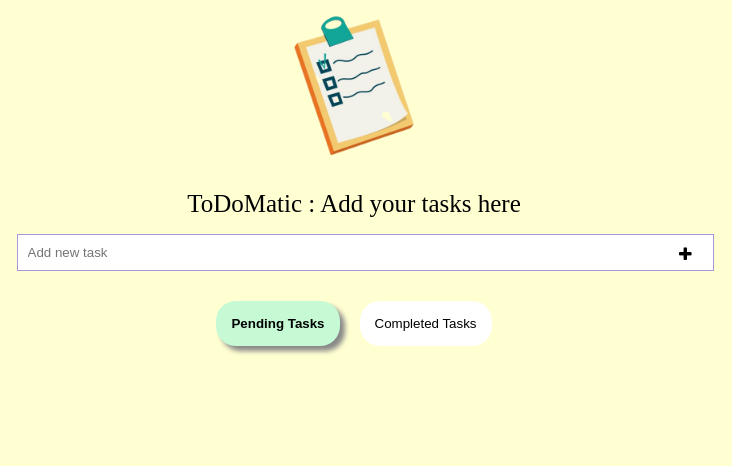
Test: working of edit and delete Icon › The item will be removed from pending tasks list once a user clicks  the delete icon
In the field with test id "input-field": (365, 252) [16,234,714,271], type "Homework at 4PM"
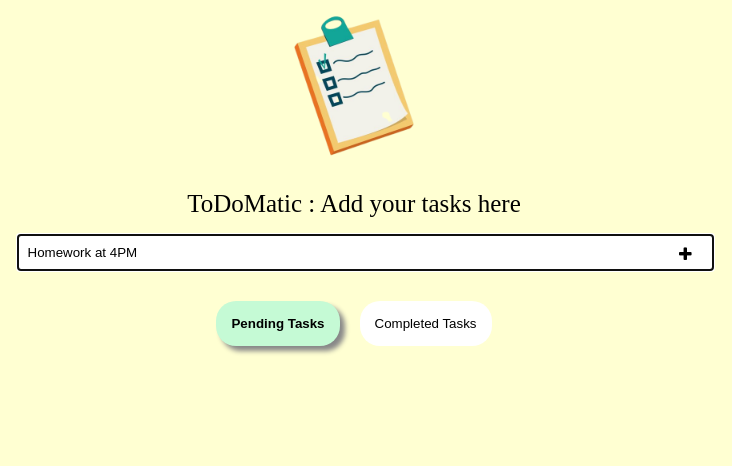
Click the icon with test id "plus icon": (685, 254) [679,246,692,262]
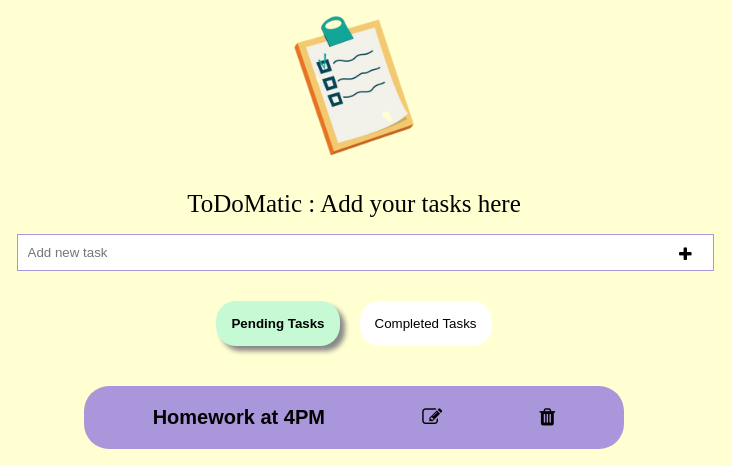
Click the icon with test id "deleteIcon": (547, 417) [540,407,555,427]
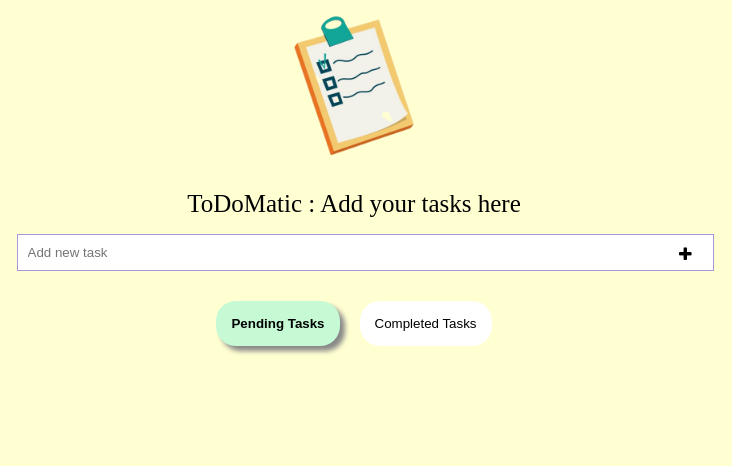
Expected: the button "Homework at 4PM" is gone
